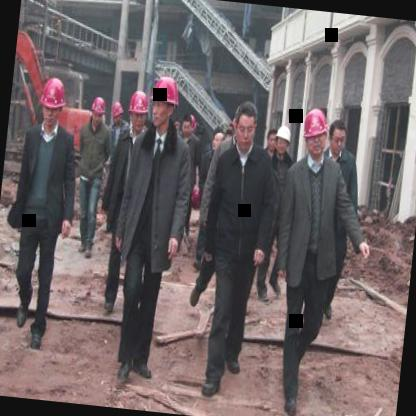head: (230, 96, 262, 154), (324, 117, 350, 159), (264, 124, 279, 154), (178, 111, 193, 137)
helmet: (146, 74, 178, 132), (300, 104, 332, 162), (37, 74, 68, 132), (125, 88, 151, 134), (86, 92, 108, 131), (274, 121, 294, 159), (108, 97, 124, 127)
